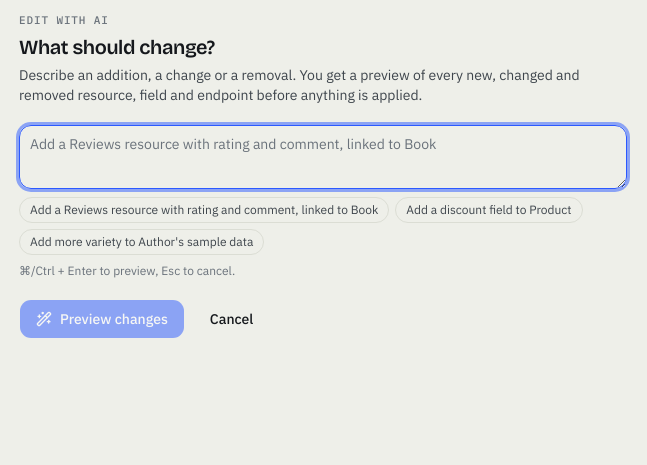
shows the server error with a Retry button
In the text box named "Describe what should change": (323, 156) [19,124,627,188], type "Add reviews"
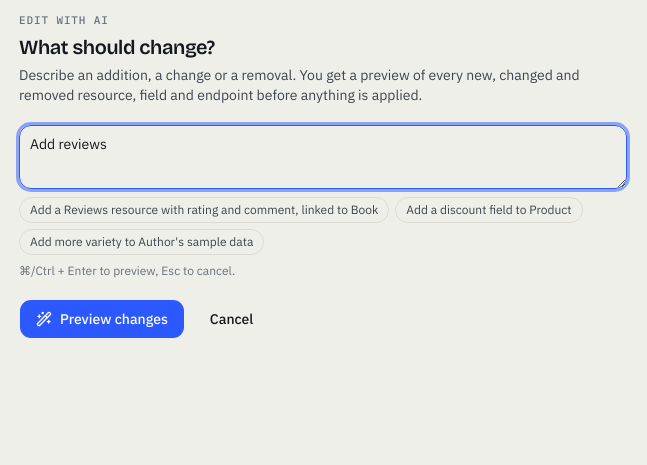
Click the button "Preview changes": (102, 318) [19,298,185,338]
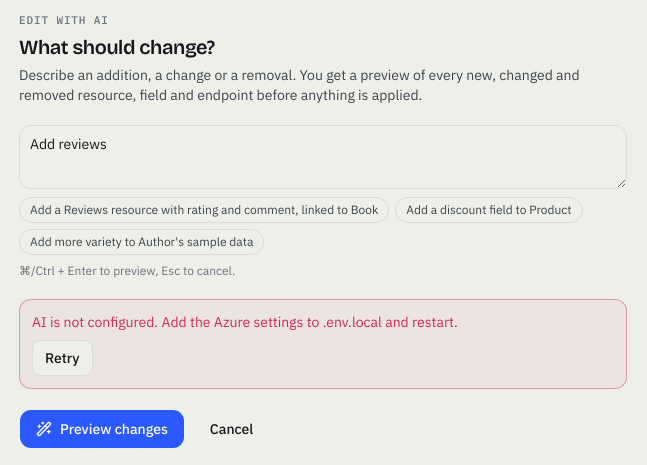
Check: the message shows "AI is not configured", box [32,312,458,330]
Check: the button "Retry" is shown, box [32,340,92,376]
